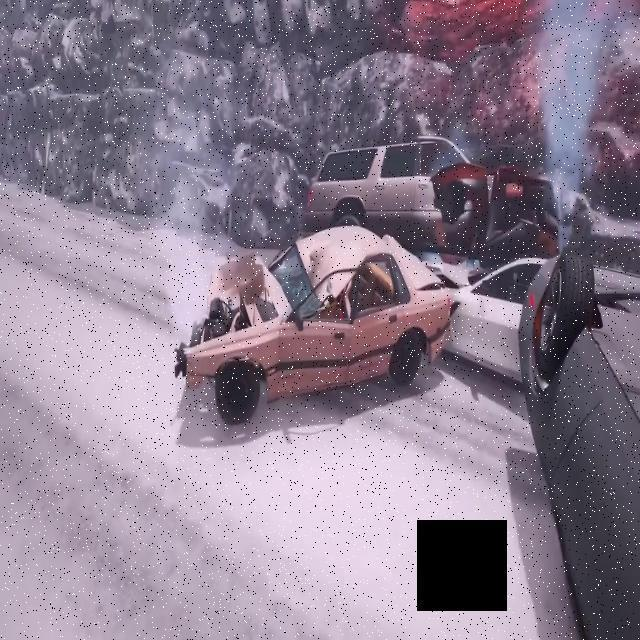multiple_accident: (160, 110, 627, 456)
